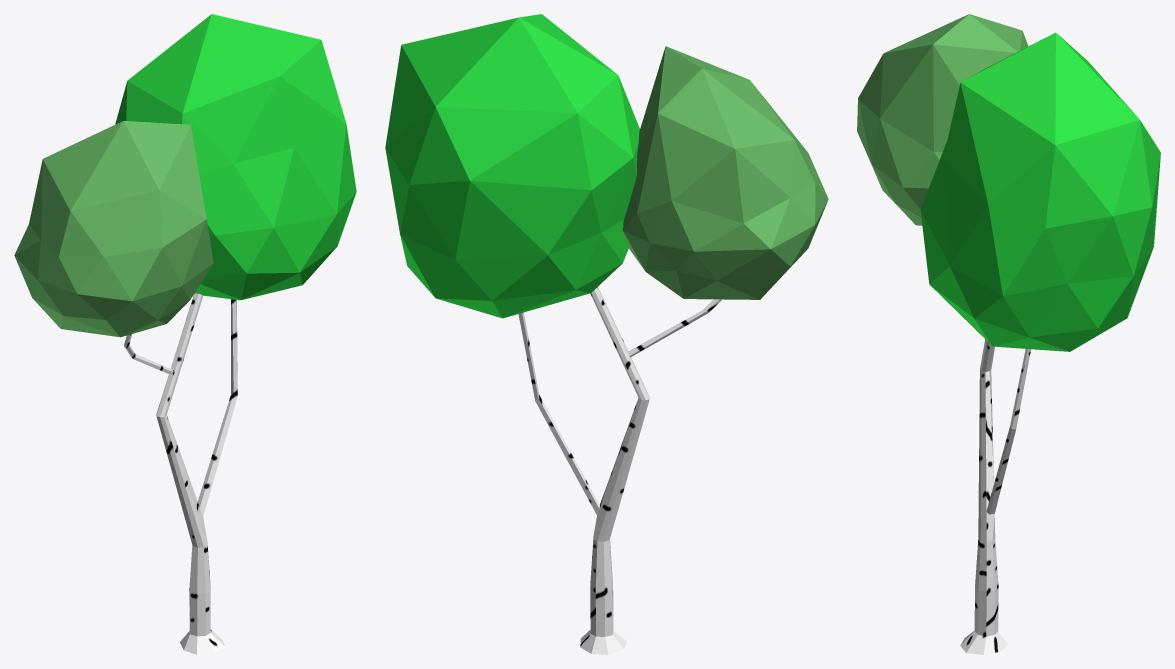
Rendered from drzewo2.fbx.
3 views of the same model, side by side, from view 1: azimuth 30°, elevation 25°; view 2: azimuth 150°, elevation 25°; view 3: azimuth 270°, elevation 25° (orthographic). The views are drawn at different scales.
Visible parts, largest first — view 1: Icosphere.001, Icosphere, Cube; view 2: Icosphere.001, Icosphere, Cube; view 3: Icosphere.001, Icosphere, Cube.
Boxes of the visible parts, box(x1,y1,x2,y2) form: Icosphere.001: box(115, 14, 356, 300); Icosphere: box(14, 121, 213, 337); Cube: box(124, 293, 237, 654); Icosphere.001: box(385, 14, 639, 318); Icosphere: box(623, 46, 828, 299); Cube: box(518, 287, 722, 654); Icosphere.001: box(920, 32, 1160, 351); Icosphere: box(857, 14, 1028, 225); Cube: box(960, 339, 1030, 654).
Size of the model in its own units: 582 by 962 by 417.
Materials: 3 (1 with a texture image).
